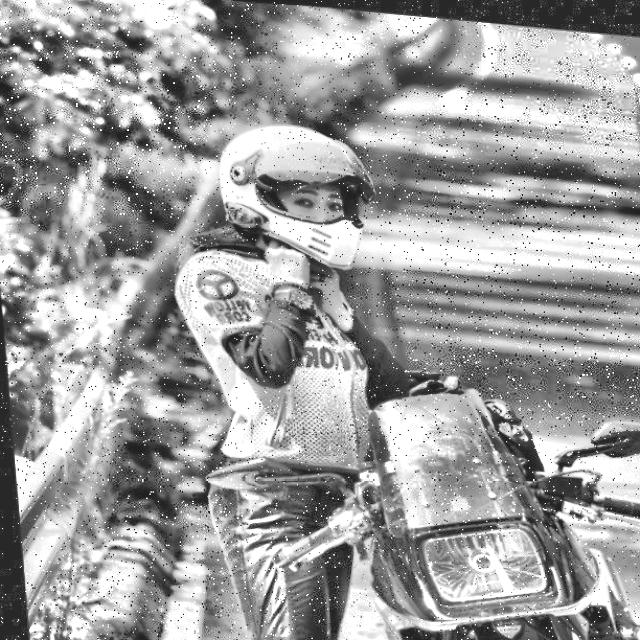Helmet: (204, 104, 386, 274)
